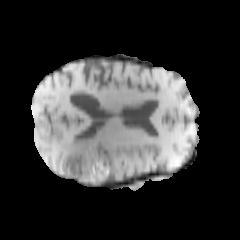glioma: (56, 131, 140, 183)
